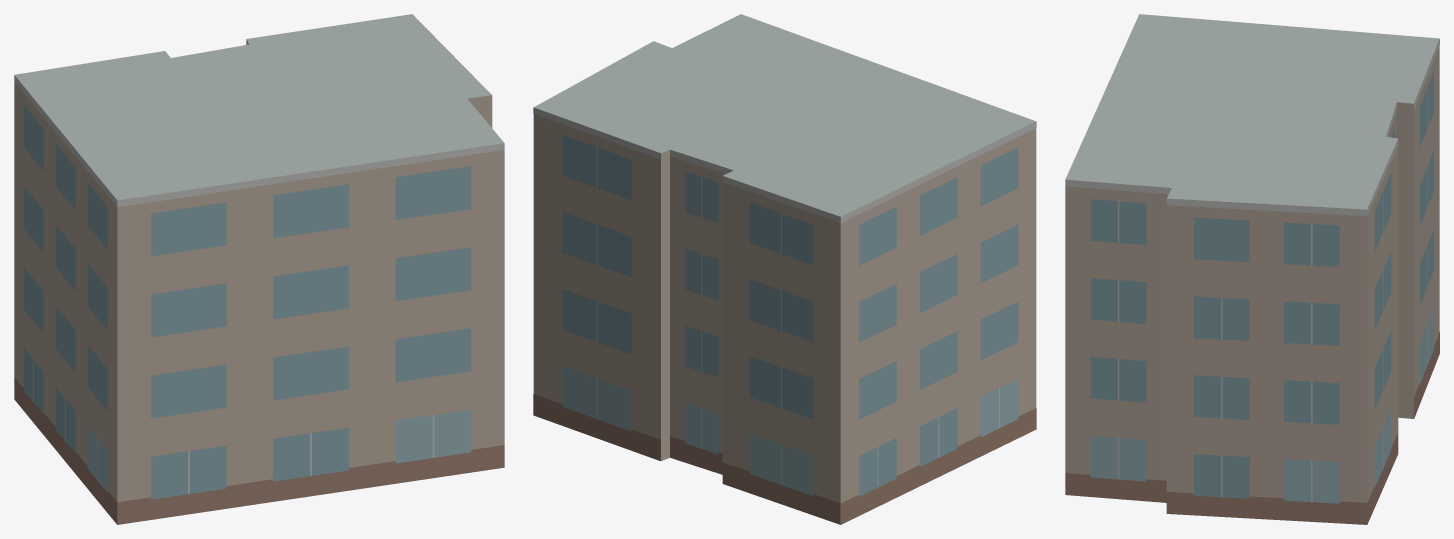
File: survey-upis-32705766.glb
3 views of the same model, side by side, from view 1: azimuth 30°, elevation 25°; view 2: azimuth 150°, elevation 25°; view 3: azimuth 270°, elevation 25° (orthographic). The views are drawn at different scales.
Parts seen in each view (by area): view 1: survey-upis-32705766.tmp; view 2: survey-upis-32705766.tmp; view 3: survey-upis-32705766.tmp.
Boxes of the visible parts, <box> form: survey-upis-32705766.tmp: <box>14,14,504,524</box>; survey-upis-32705766.tmp: <box>533,14,1036,524</box>; survey-upis-32705766.tmp: <box>1065,14,1439,524</box>.
Bounding box in the file's own units: 15.57 × 11.7 × 12.6.
